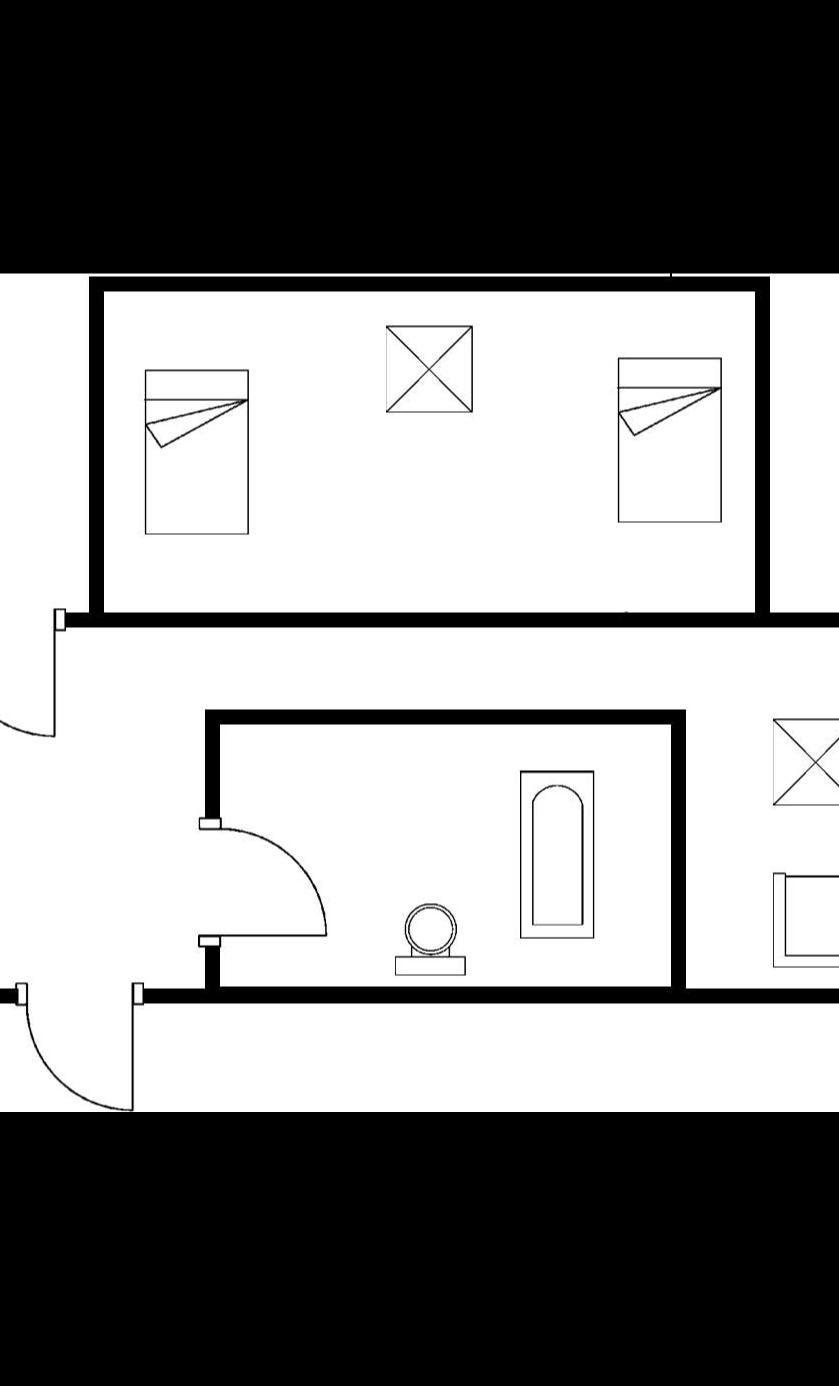bed: (134, 359, 258, 540), (610, 349, 728, 532)
sofa: (764, 866, 839, 974)
toilet: (386, 899, 470, 982)
tub: (512, 762, 600, 948)
